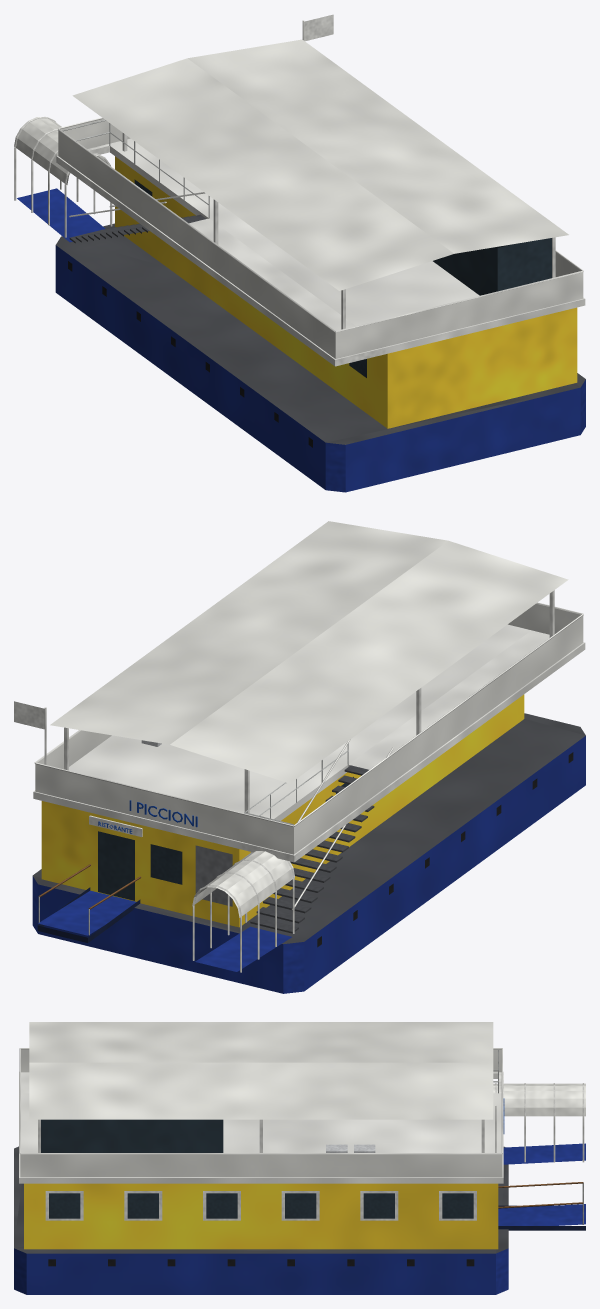
Rendered from SM_MoloItalia_RistorantePiccioni_v2.fbx.
3 renders of one model, top to bottom at view 1: azimuth 30°, elevation 25°; view 2: azimuth 150°, elevation 25°; view 3: azimuth 270°, elevation 25°, orthographic. The views are drawn at different scales.
Visible parts, largest first — view 1: SM_MoloItalia_RistorantePiccioni_v2; view 2: SM_MoloItalia_RistorantePiccioni_v2; view 3: SM_MoloItalia_RistorantePiccioni_v2.
Part boxes in pixels (x1,y1,x2,y2): SM_MoloItalia_RistorantePiccioni_v2: (14, 14, 585, 492); SM_MoloItalia_RistorantePiccioni_v2: (14, 521, 585, 993); SM_MoloItalia_RistorantePiccioni_v2: (14, 1022, 585, 1294).
Size of what is drawn, in the model's own units: 1100 by 2255 by 800.
1 material, 1 textured.
